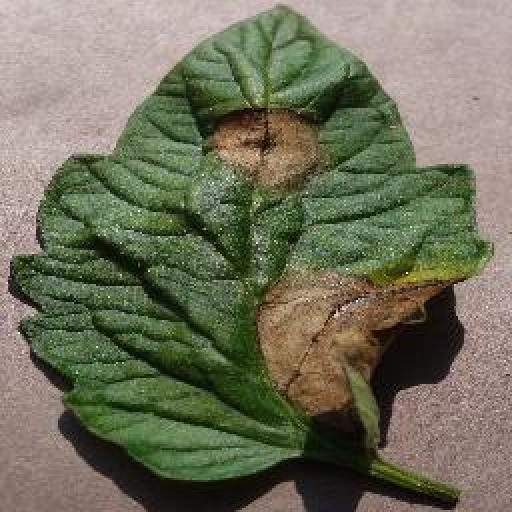Late Blight: (12, 1, 496, 480)
